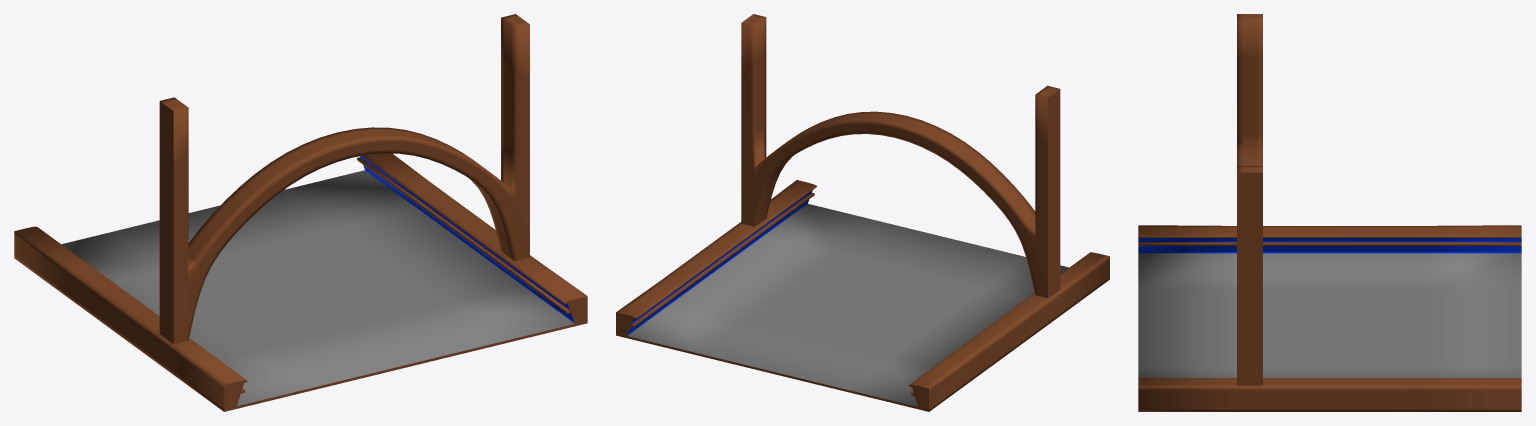
Rendered from Meta.fbx.
3 renders of one model, left to right at view 1: azimuth 30°, elevation 25°; view 2: azimuth 150°, elevation 25°; view 3: azimuth 270°, elevation 25°, orthographic. The views are drawn at different scales.
Visible parts, largest first — view 1: Recta, Meta; view 2: Recta, Meta; view 3: Recta, Meta.
Boxes of the visible parts, box(x1,y1,x2,y2) form: Recta: box(14, 153, 587, 411); Meta: box(159, 14, 529, 344); Recta: box(616, 180, 1109, 411); Meta: box(741, 14, 1060, 298); Recta: box(1138, 225, 1521, 411); Meta: box(1237, 14, 1262, 385).
Size of the model in its own units: 14 by 9.58 by 14.
